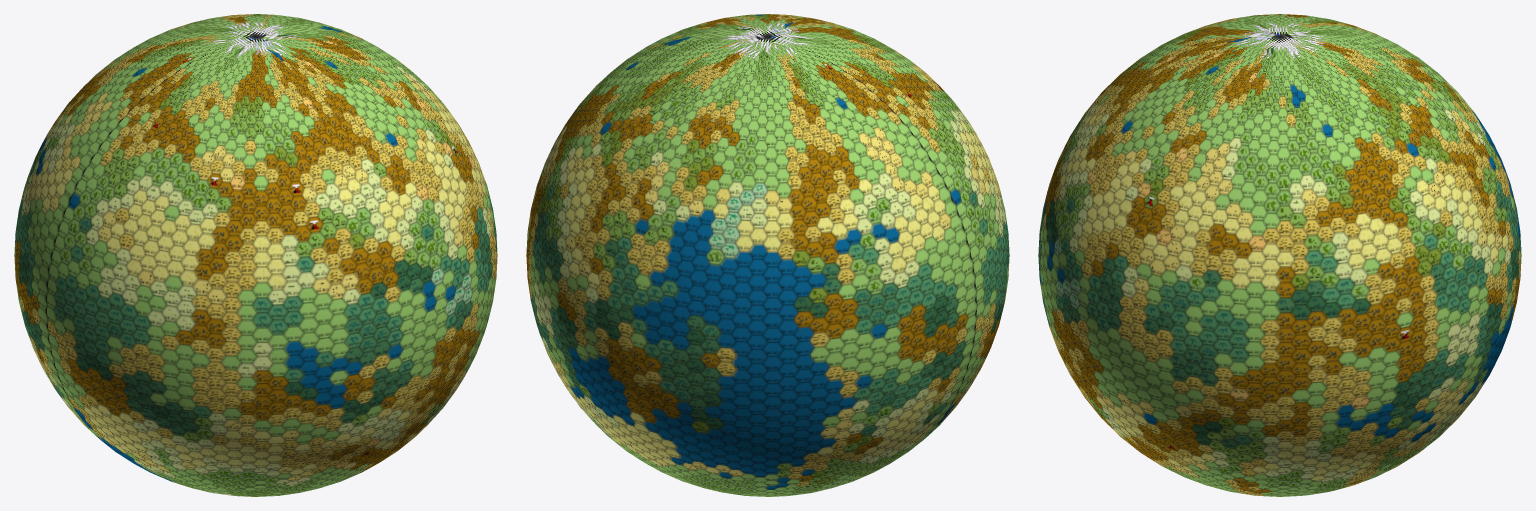
The model's file is Moon.fbx.
The picture shows the model from 3 angles, left to right: view 1: azimuth 30°, elevation 25°; view 2: azimuth 150°, elevation 25°; view 3: azimuth 270°, elevation 25°; orthographic projection.
Visible parts, largest first — view 1: GeoSphere001; view 2: GeoSphere001; view 3: GeoSphere001.
Part boxes in pixels (box(x1,y1,x2,y2)): GeoSphere001: box(14, 14, 497, 496); GeoSphere001: box(526, 14, 1009, 496); GeoSphere001: box(1038, 14, 1521, 496).
Bounding box in the file's own units: 200 × 200 × 200.
